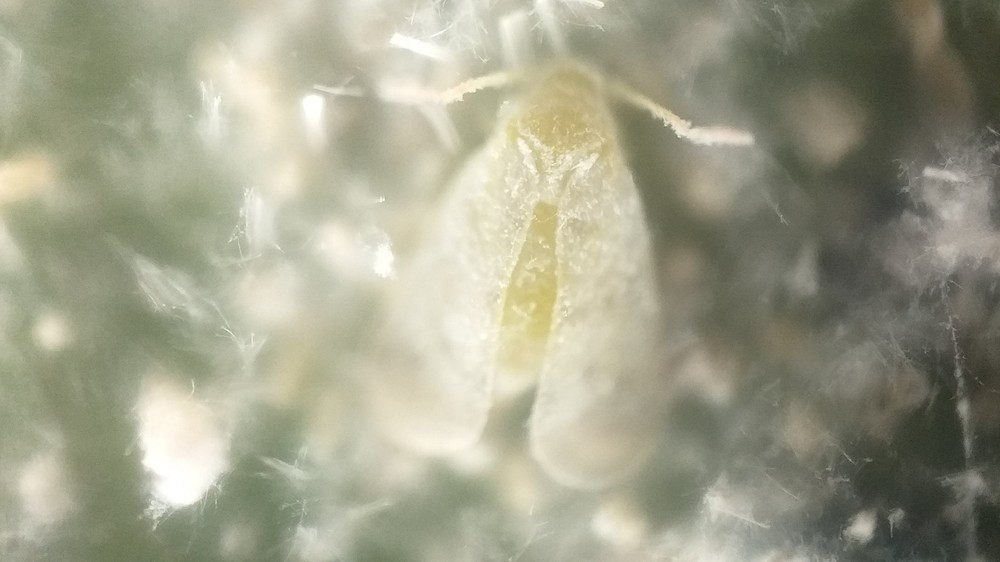Mosca Blanca: (321, 58, 779, 521)
